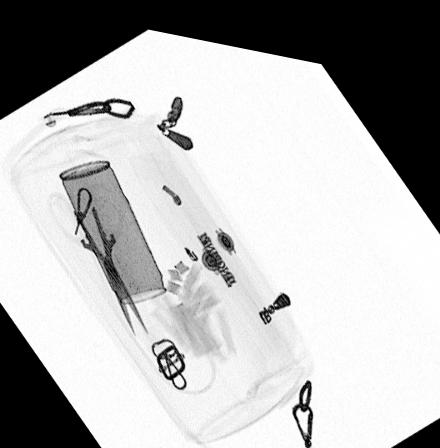Scissors: (41, 184, 152, 338)
